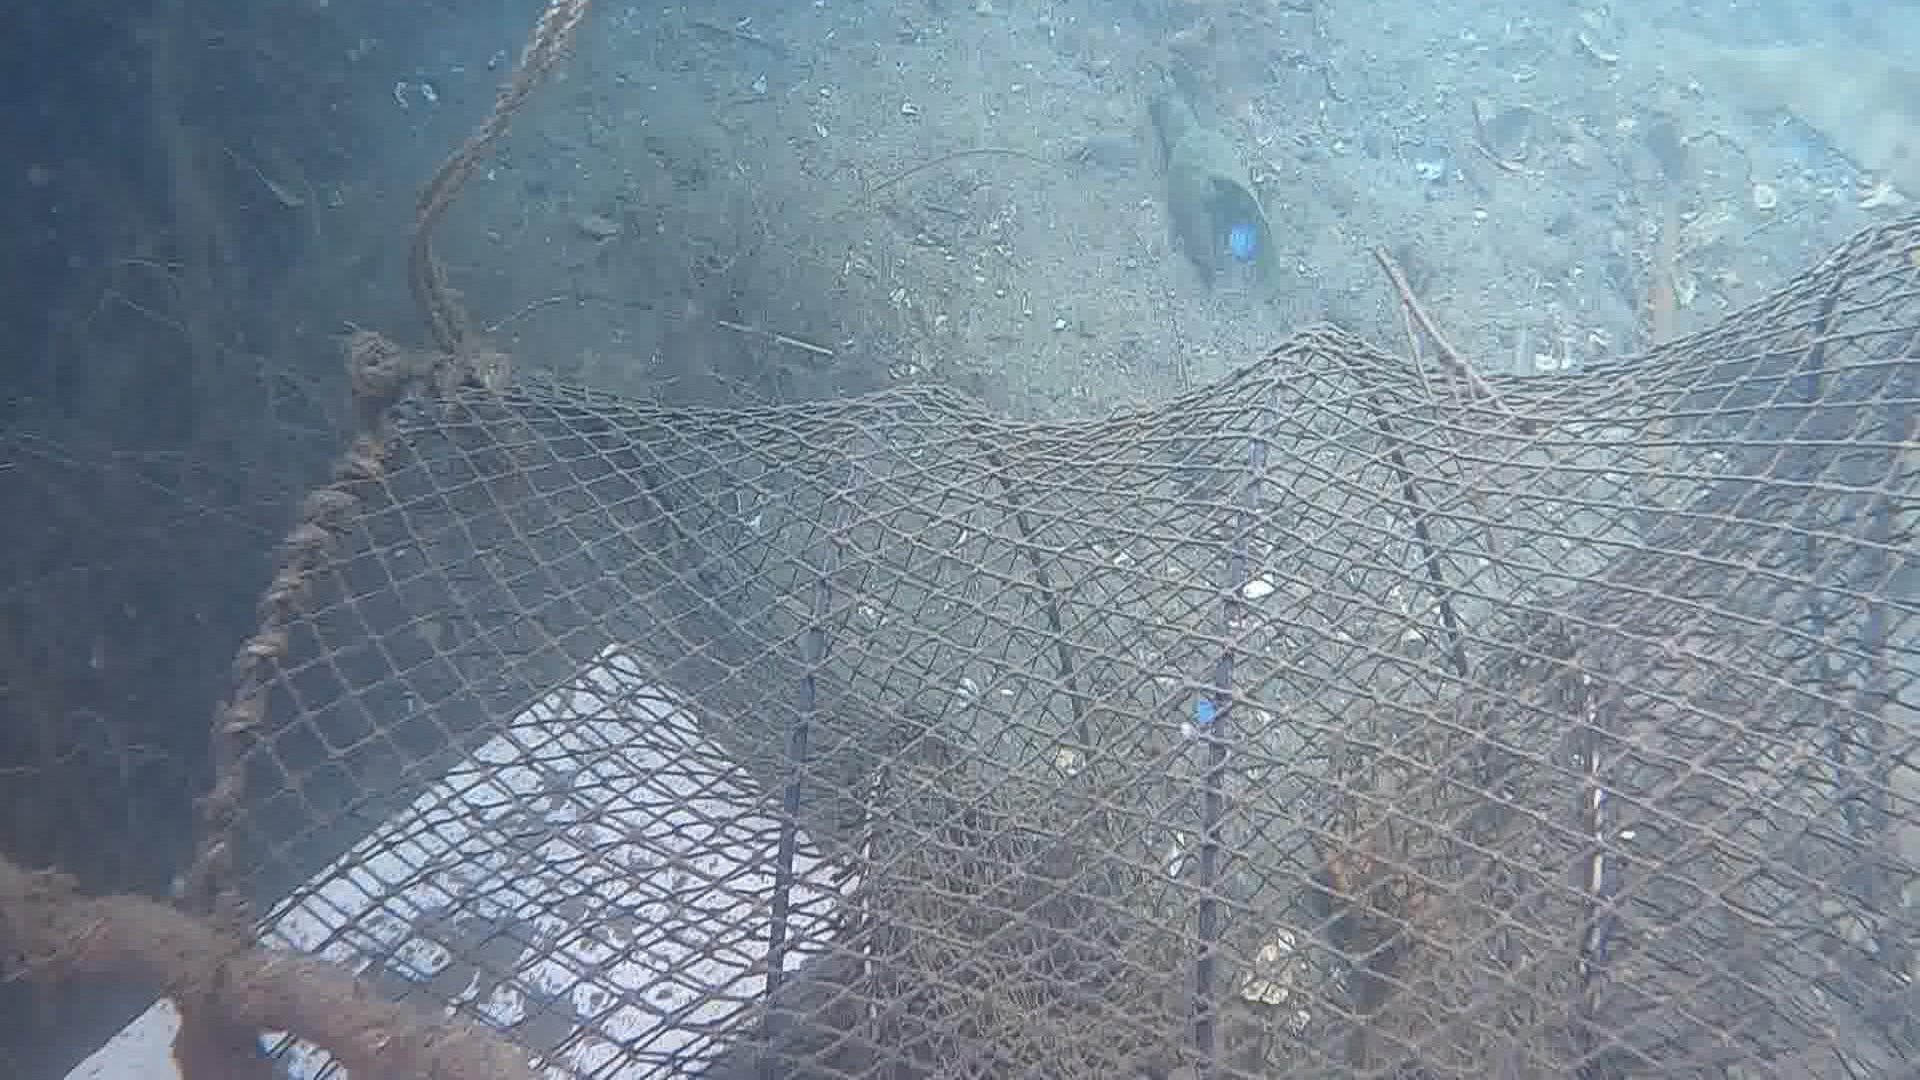bundle of ropes: (398, 0, 584, 339)
spring fish trap: (171, 218, 1920, 1080)
